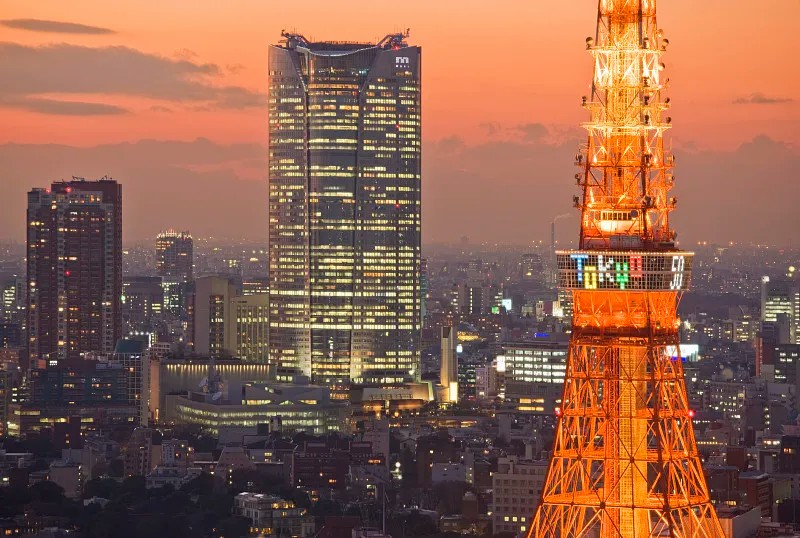Tokyo: (526, 1, 729, 538)
